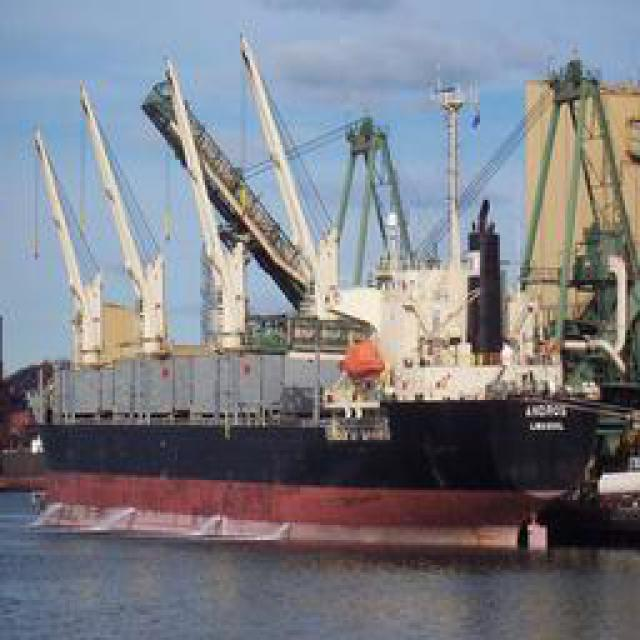Ship: (33, 47, 631, 490)
